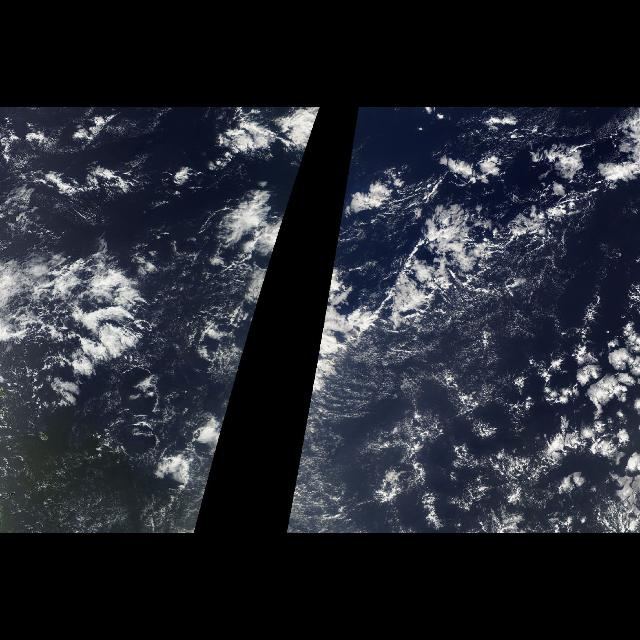Flower: (421, 297, 639, 531)
Sugar: (286, 234, 616, 528), (4, 399, 142, 533)
